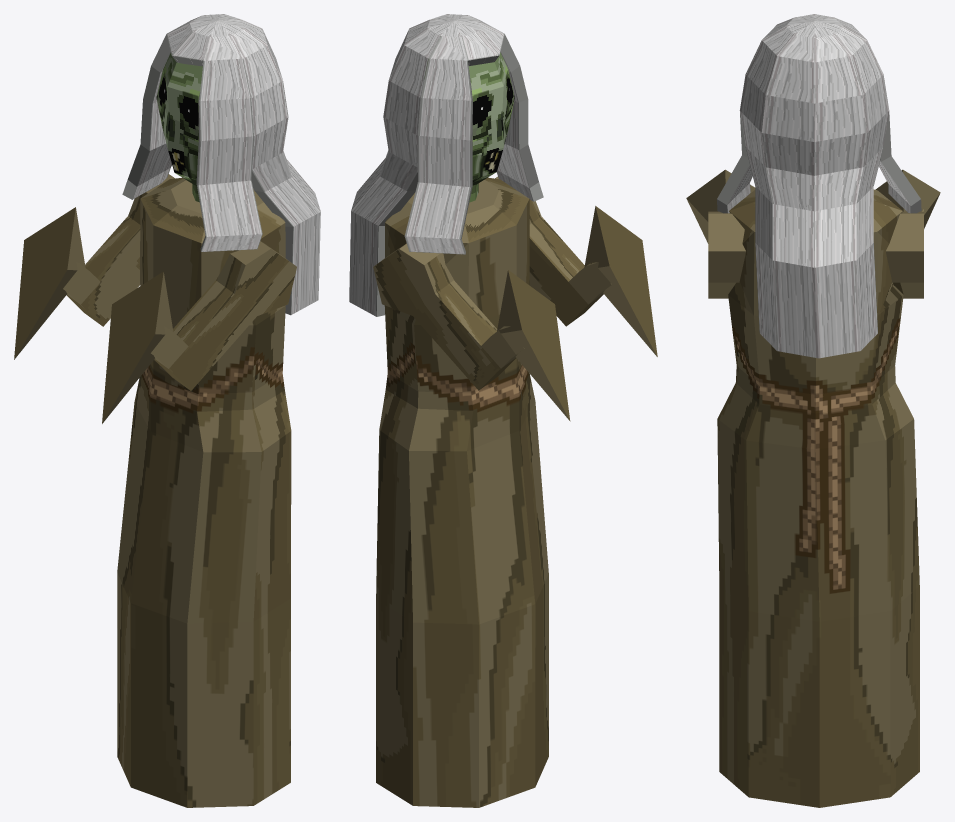
The model's file is CandyHag.fbx.
3 renders of one model, left to right at view 1: azimuth 30°, elevation 25°; view 2: azimuth 150°, elevation 25°; view 3: azimuth 270°, elevation 25°, orthographic.
Visible parts, largest first — view 1: Body, hair, sleeve2, sleeve1, Sphere; view 2: Body, hair, sleeve1, sleeve2, Sphere; view 3: Body, hair, sleeve2, sleeve1.
Boxes of the visible parts, bbox=[...] form: Body: bbox=[117, 177, 291, 807]; hair: bbox=[122, 14, 320, 315]; sleeve2: bbox=[102, 241, 296, 423]; sleeve1: bbox=[14, 174, 174, 359]; Sphere: bbox=[156, 53, 202, 185]; Body: bbox=[376, 177, 548, 807]; hair: bbox=[349, 14, 543, 316]; sleeve1: bbox=[373, 243, 570, 421]; sleeve2: bbox=[495, 176, 657, 356]; Sphere: bbox=[424, 52, 514, 185]; Body: bbox=[717, 189, 919, 807]; hair: bbox=[717, 14, 921, 358]; sleeve2: bbox=[686, 169, 755, 298]; sleeve1: bbox=[875, 169, 940, 298].
Bounding box in the file's own units: 164 × 455 × 139.
